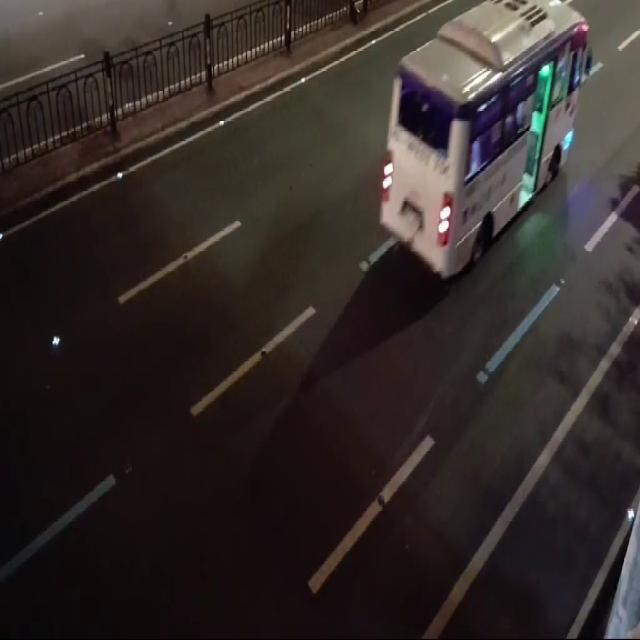jeepney: (367, 0, 596, 297)
